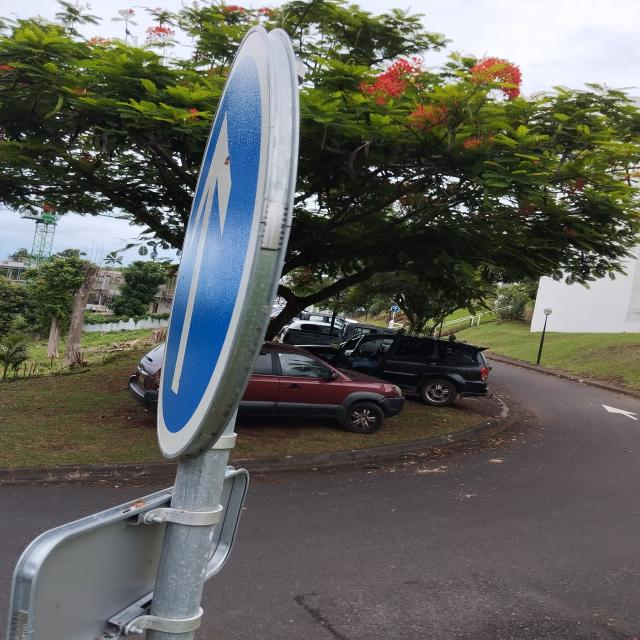Sens-Unique: (157, 21, 300, 463)
